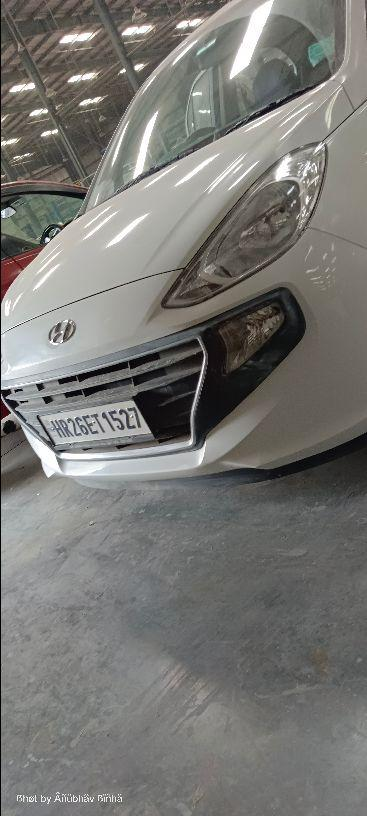license_plate: (36, 398, 154, 451)
